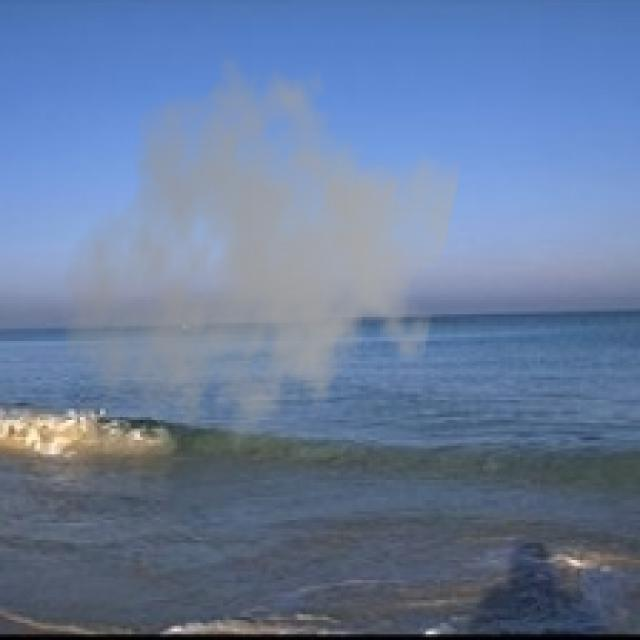smoke: (57, 49, 463, 474)
